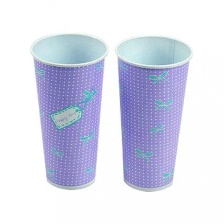paper_cup: (26, 28, 112, 194), (111, 30, 195, 193)
